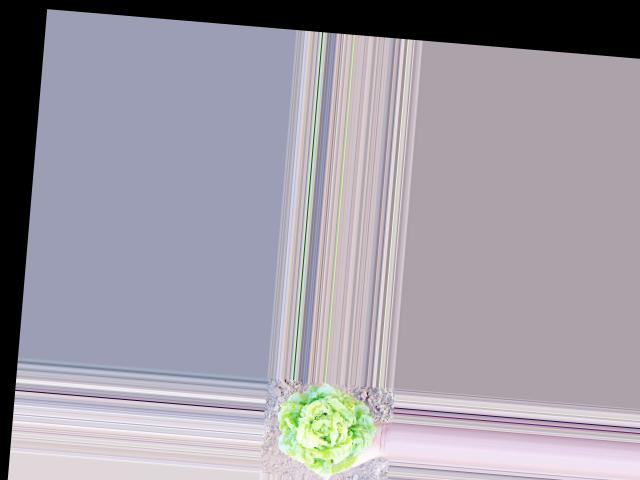lettuce: (271, 381, 372, 477)
